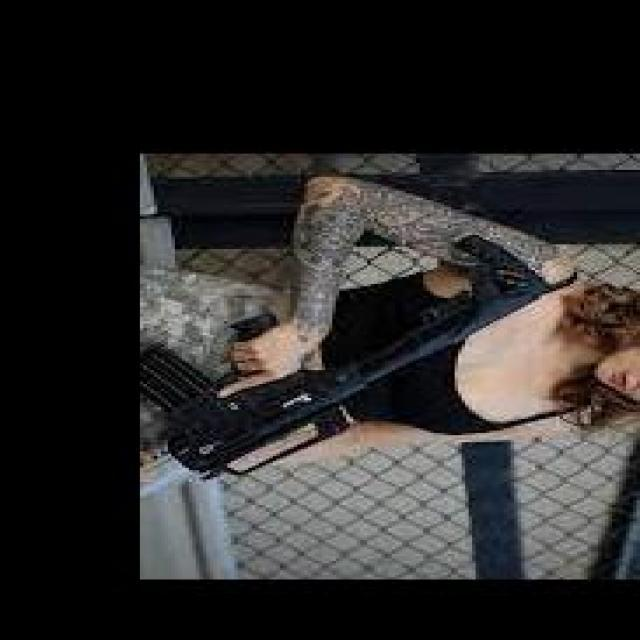weapon: (142, 232, 557, 500)
